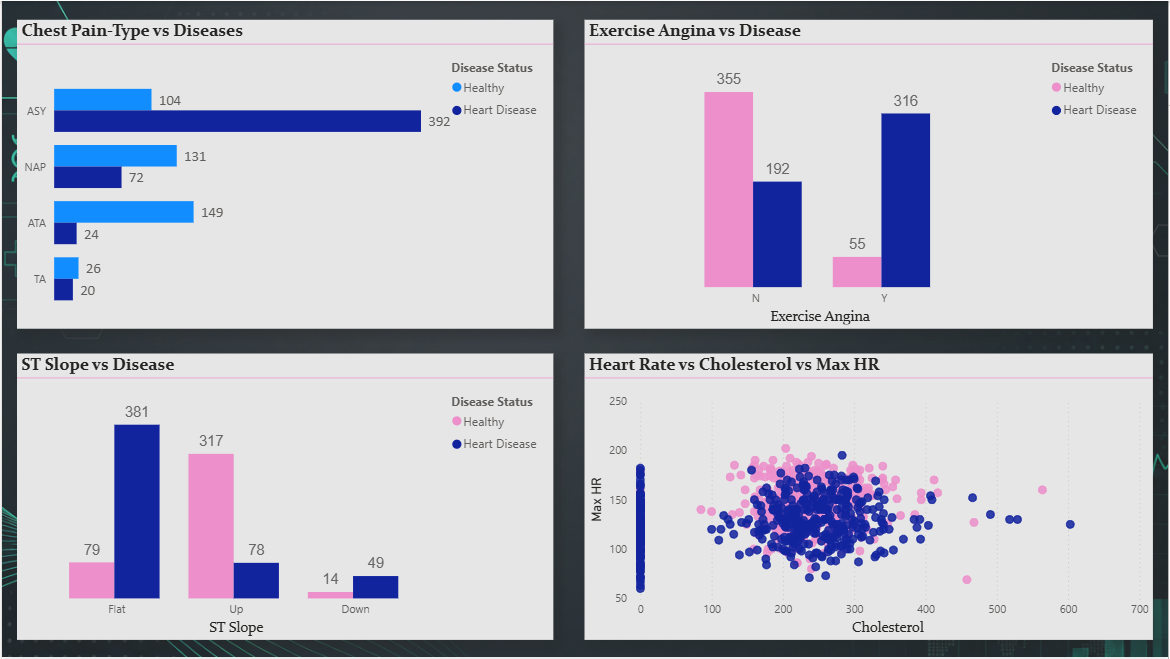

This screenshot's page, from the dashboard's own definition file:
{"tool":"powerbi","page":{"name":"Cardiovascular Risk Analysis","canvas":[1280,720],"ordinal":1},"visuals":[{"type":"clusteredBarChart","title":"Chest Pain-Type  vs Diseases","fields":{"Category":["heart_db heart.chest_pain_type"],"Series":["heart_db heart.Disease Status"],"Y":["heart_db heart.Total Patients"]},"box":[16.5,20.6,588.7,338.9],"z":0},{"type":"clusteredColumnChart","title":"Exercise Angina vs Disease","fields":{"Category":["heart_db heart.exercise_angina"],"Series":["heart_db heart.Disease Status"],"Y":["heart_db heart.Total Patients"]},"box":[639.5,20.6,624.4,338.9],"z":1000},{"type":"clusteredColumnChart","title":"ST Slope vs Disease ","fields":{"Category":["heart_db heart.st_slope"],"Series":["heart_db heart.Disease Status"],"Y":["heart_db heart.Total Patients"]},"box":[16.5,387,588.7,314.2],"z":2000},{"type":"scatterChart","title":"Heart Rate vs Cholesterol vs Max HR","fields":{"Category":["heart_db heart.patient_id"],"Series":["heart_db heart.Disease Status"],"X":["Sum(heart_db heart.cholesterol)"],"Y":["Sum(heart_db heart.max_hr)"]},"box":[639.5,387,624.4,314.2],"z":3000}]}

Visuals, with their boxes in screenshot pixels (x1, y1, x2, y2), scaled from the page's 1280x720 canvas onto the 1170x659 screenshot:
"Chest Pain-Type  vs Diseases" clusteredBarChart: locate(15, 19, 553, 329)
"Exercise Angina vs Disease" clusteredColumnChart: locate(585, 19, 1155, 329)
"ST Slope vs Disease " clusteredColumnChart: locate(15, 354, 553, 642)
"Heart Rate vs Cholesterol vs Max HR" scatterChart: locate(585, 354, 1155, 642)
